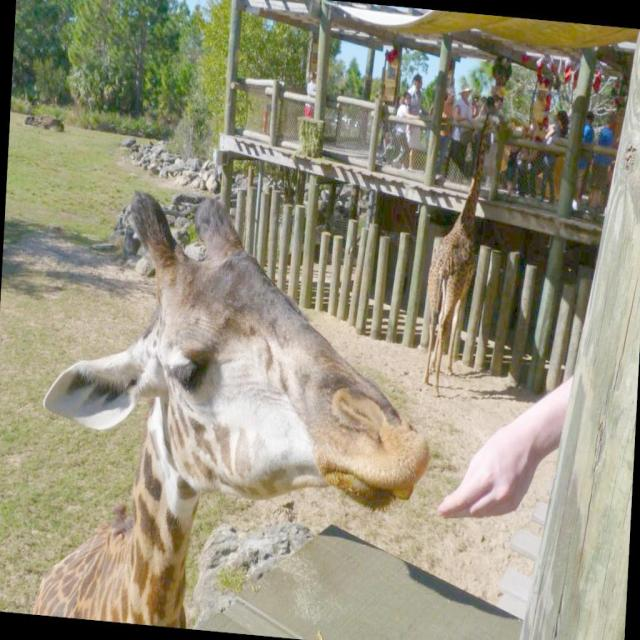Giraffe: (30, 174, 435, 618)
